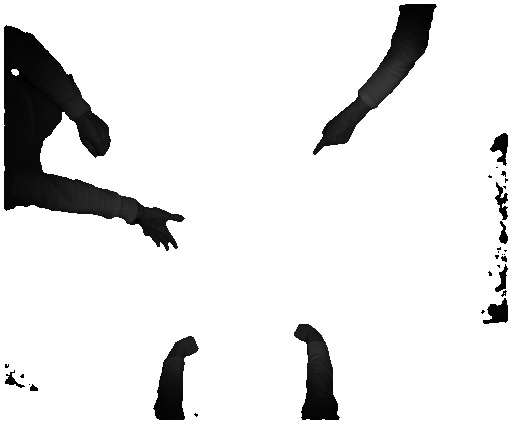fist: (76, 111, 111, 159), (288, 320, 316, 343), (176, 336, 199, 359)
hand: (141, 208, 191, 255), (312, 110, 358, 159)
